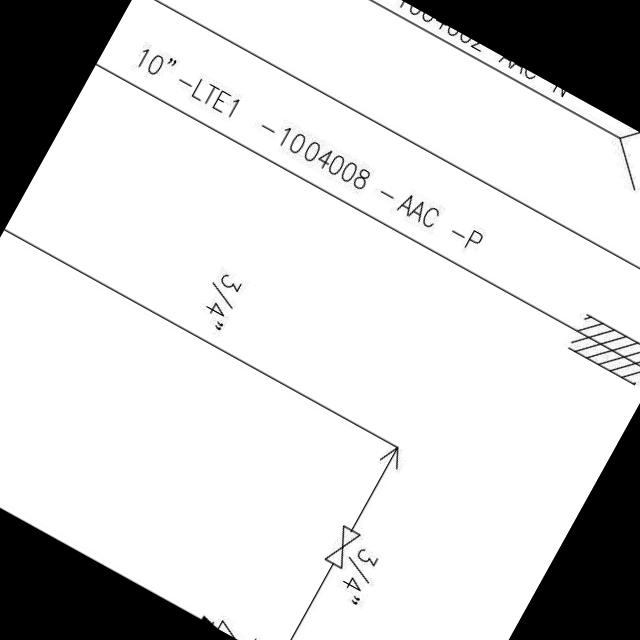GV: (318, 516, 367, 573)
